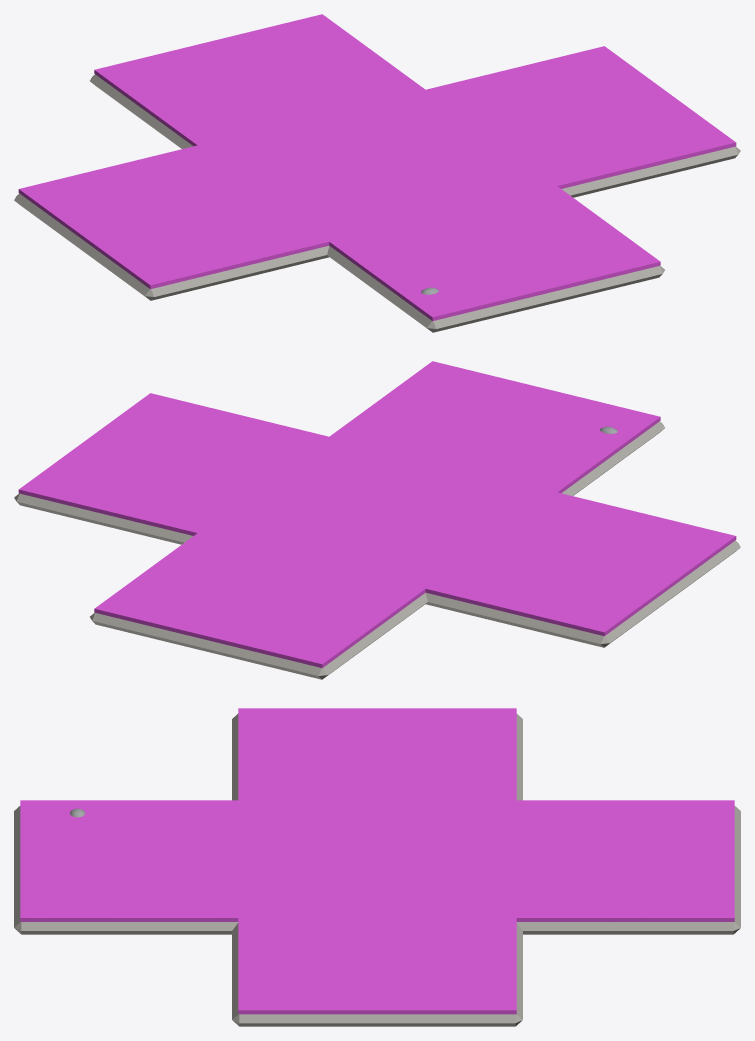
The picture shows the model from 3 angles, top to bottom: view 1: azimuth 30°, elevation 25°; view 2: azimuth 150°, elevation 25°; view 3: azimuth 270°, elevation 25°; orthographic projection. The views are drawn at different scales.
Visible parts, largest first — view 1: NAV_MASK_FOREST_PATH_GRAVEL_JUNCTION_EW, NAV_MASK_FOREST_PATH_GRAVEL_JUNCTION_NS, LOD2_FOREST_PATH_GRAVEL_JUNCTION_EW, LOD2_FOREST_PATH_GRAVEL_JUNCTION_NS; view 2: NAV_MASK_FOREST_PATH_GRAVEL_JUNCTION_EW, NAV_MASK_FOREST_PATH_GRAVEL_JUNCTION_NS, LOD2_FOREST_PATH_GRAVEL_JUNCTION_EW, LOD2_FOREST_PATH_GRAVEL_JUNCTION_NS; view 3: NAV_MASK_FOREST_PATH_GRAVEL_JUNCTION_NS, NAV_MASK_FOREST_PATH_GRAVEL_JUNCTION_EW, LOD2_FOREST_PATH_GRAVEL_JUNCTION_NS, LOD2_FOREST_PATH_GRAVEL_JUNCTION_EW.
Boxes of the visible parts, <box> form: NAV_MASK_FOREST_PATH_GRAVEL_JUNCTION_EW: <box>18,46,736,289</box>; NAV_MASK_FOREST_PATH_GRAVEL_JUNCTION_NS: <box>94,14,660,321</box>; LOD2_FOREST_PATH_GRAVEL_JUNCTION_EW: <box>14,146,740,300</box>; LOD2_FOREST_PATH_GRAVEL_JUNCTION_NS: <box>90,74,664,332</box>; NAV_MASK_FOREST_PATH_GRAVEL_JUNCTION_EW: <box>18,393,736,636</box>; NAV_MASK_FOREST_PATH_GRAVEL_JUNCTION_NS: <box>94,361,660,668</box>; LOD2_FOREST_PATH_GRAVEL_JUNCTION_EW: <box>14,493,740,647</box>; LOD2_FOREST_PATH_GRAVEL_JUNCTION_NS: <box>90,421,664,679</box>; NAV_MASK_FOREST_PATH_GRAVEL_JUNCTION_NS: <box>20,800,734,921</box>; NAV_MASK_FOREST_PATH_GRAVEL_JUNCTION_EW: <box>238,708,516,1014</box>; LOD2_FOREST_PATH_GRAVEL_JUNCTION_NS: <box>14,806,740,934</box>; LOD2_FOREST_PATH_GRAVEL_JUNCTION_EW: <box>232,713,522,1026</box>.
Size of what is drawn, in the model's own units: 8 by 0.24 by 8.
